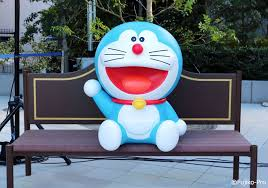doraemon: (83, 21, 188, 153)
